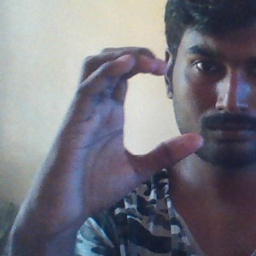C: (77, 43, 210, 172)
